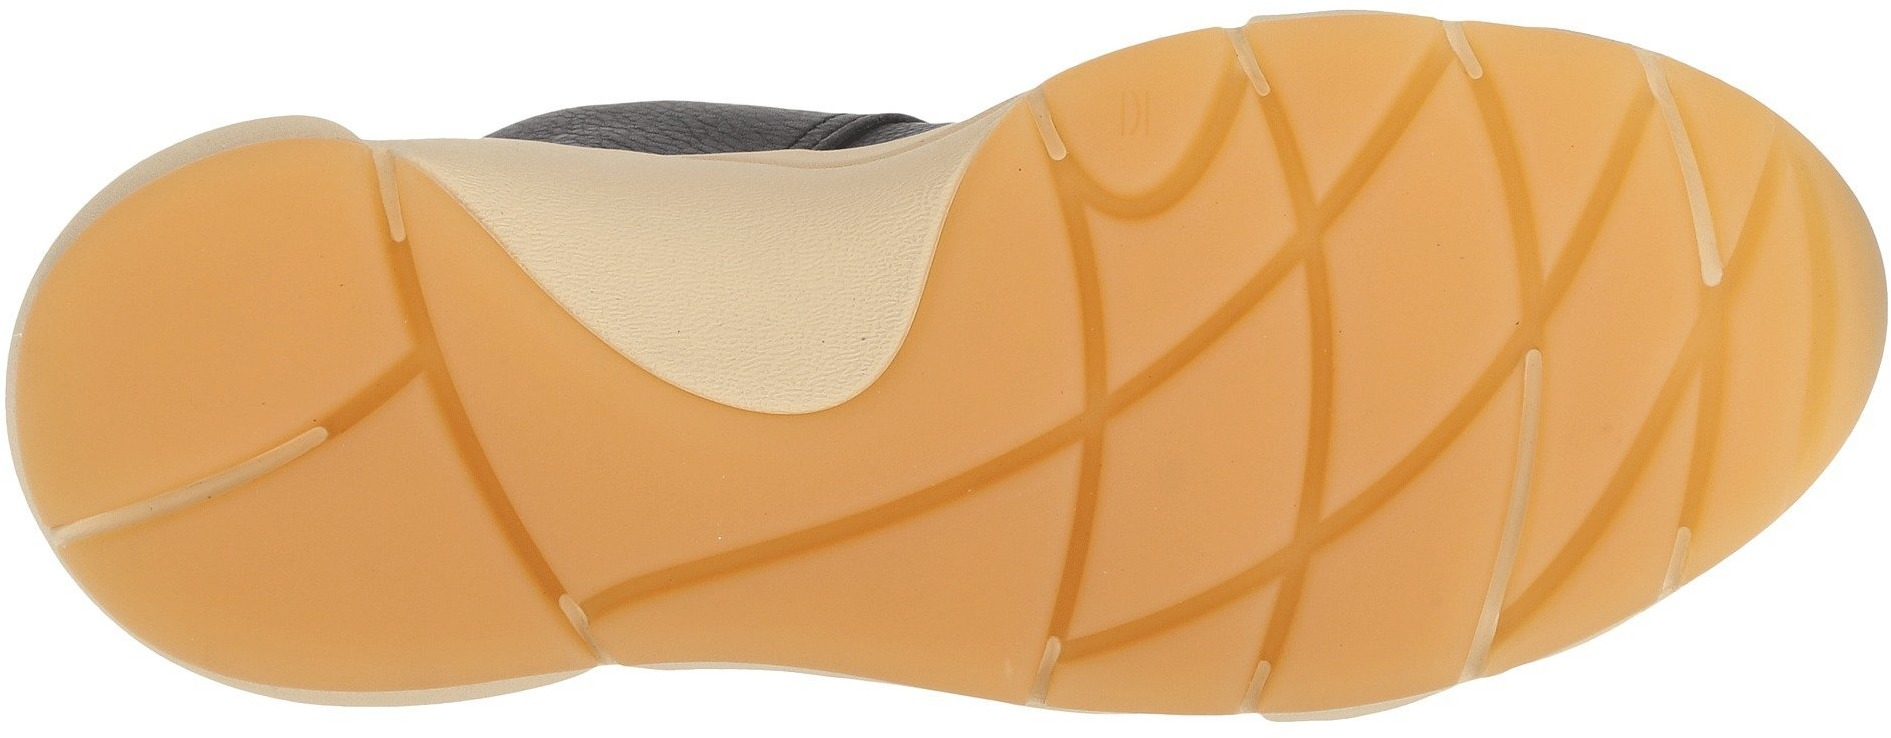other: (546, 229, 831, 531), (90, 241, 361, 506)
quad: (1248, 51, 1772, 599)
